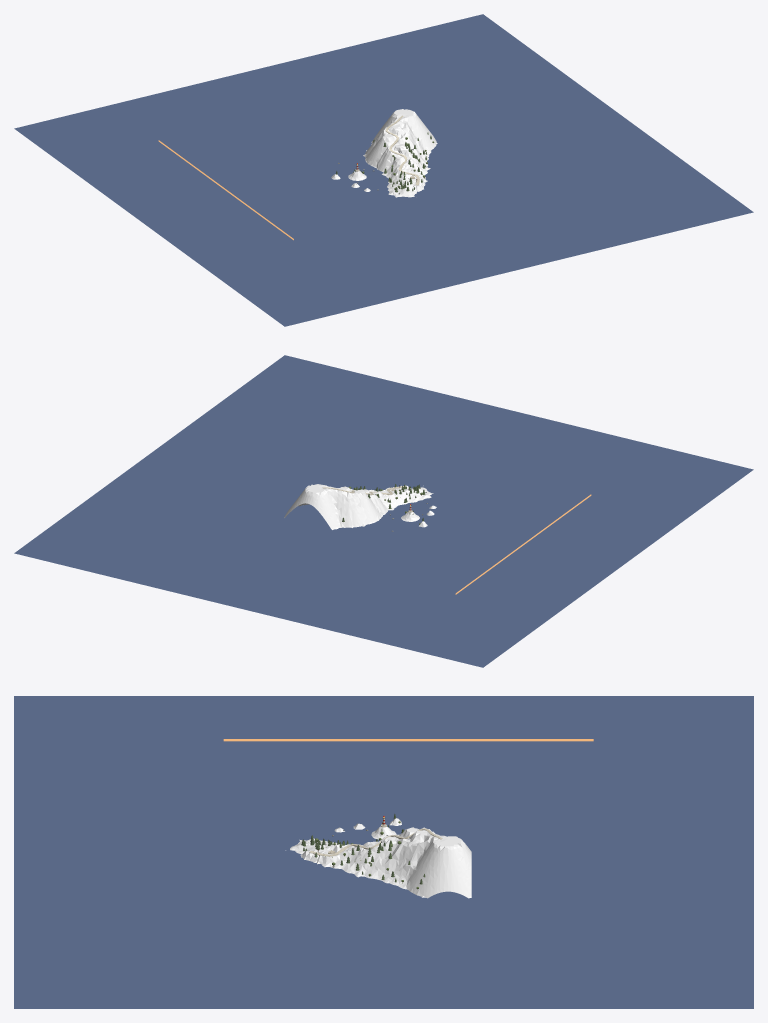
The model's file is Try1.glb.
3 views of the same model, one above another, from view 1: azimuth 30°, elevation 25°; view 2: azimuth 150°, elevation 25°; view 3: azimuth 270°, elevation 25° (orthographic). The views are drawn at different scales.
Parts seen in each view (by area): view 1: Ocean, Terrain; view 2: Ocean, Terrain; view 3: Ocean, Terrain, HorizonGlowCard.
Part boxes in pixels (box(x1,y1,x2,y2)): Ocean: box(14, 14, 753, 326); Terrain: box(331, 109, 437, 197); Ocean: box(14, 355, 753, 667); Terrain: box(284, 484, 436, 529); Ocean: box(14, 696, 753, 1008); Terrain: box(285, 818, 471, 898); HorizonGlowCard: box(223, 739, 593, 741).
Size of the model in its own units: 300 by 78.56 by 300.
19 materials, 2 textured.
